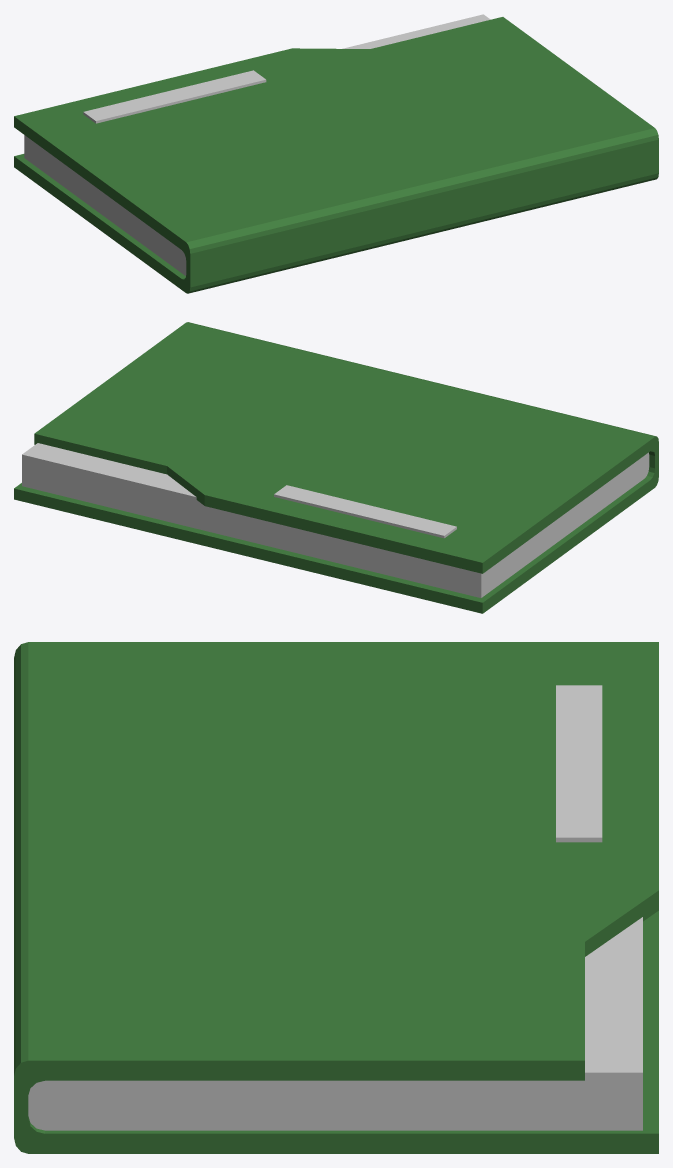
Rendered from Dossier.fbx.
The picture shows the model from 3 angles, top to bottom: view 1: azimuth 30°, elevation 25°; view 2: azimuth 150°, elevation 25°; view 3: azimuth 270°, elevation 25°; orthographic projection. The views are drawn at different scales.
Visible parts, largest first — view 1: Dossier; view 2: Dossier; view 3: Dossier.
Part boxes in pixels (x1=…): Dossier: x1=14, y1=14, x2=658, y2=293; Dossier: x1=14, y1=322, x2=658, y2=613; Dossier: x1=14, y1=642, x2=658, y2=1153.
Bounding box in the file's own units: 37.04 × 4.04 × 24.12.
